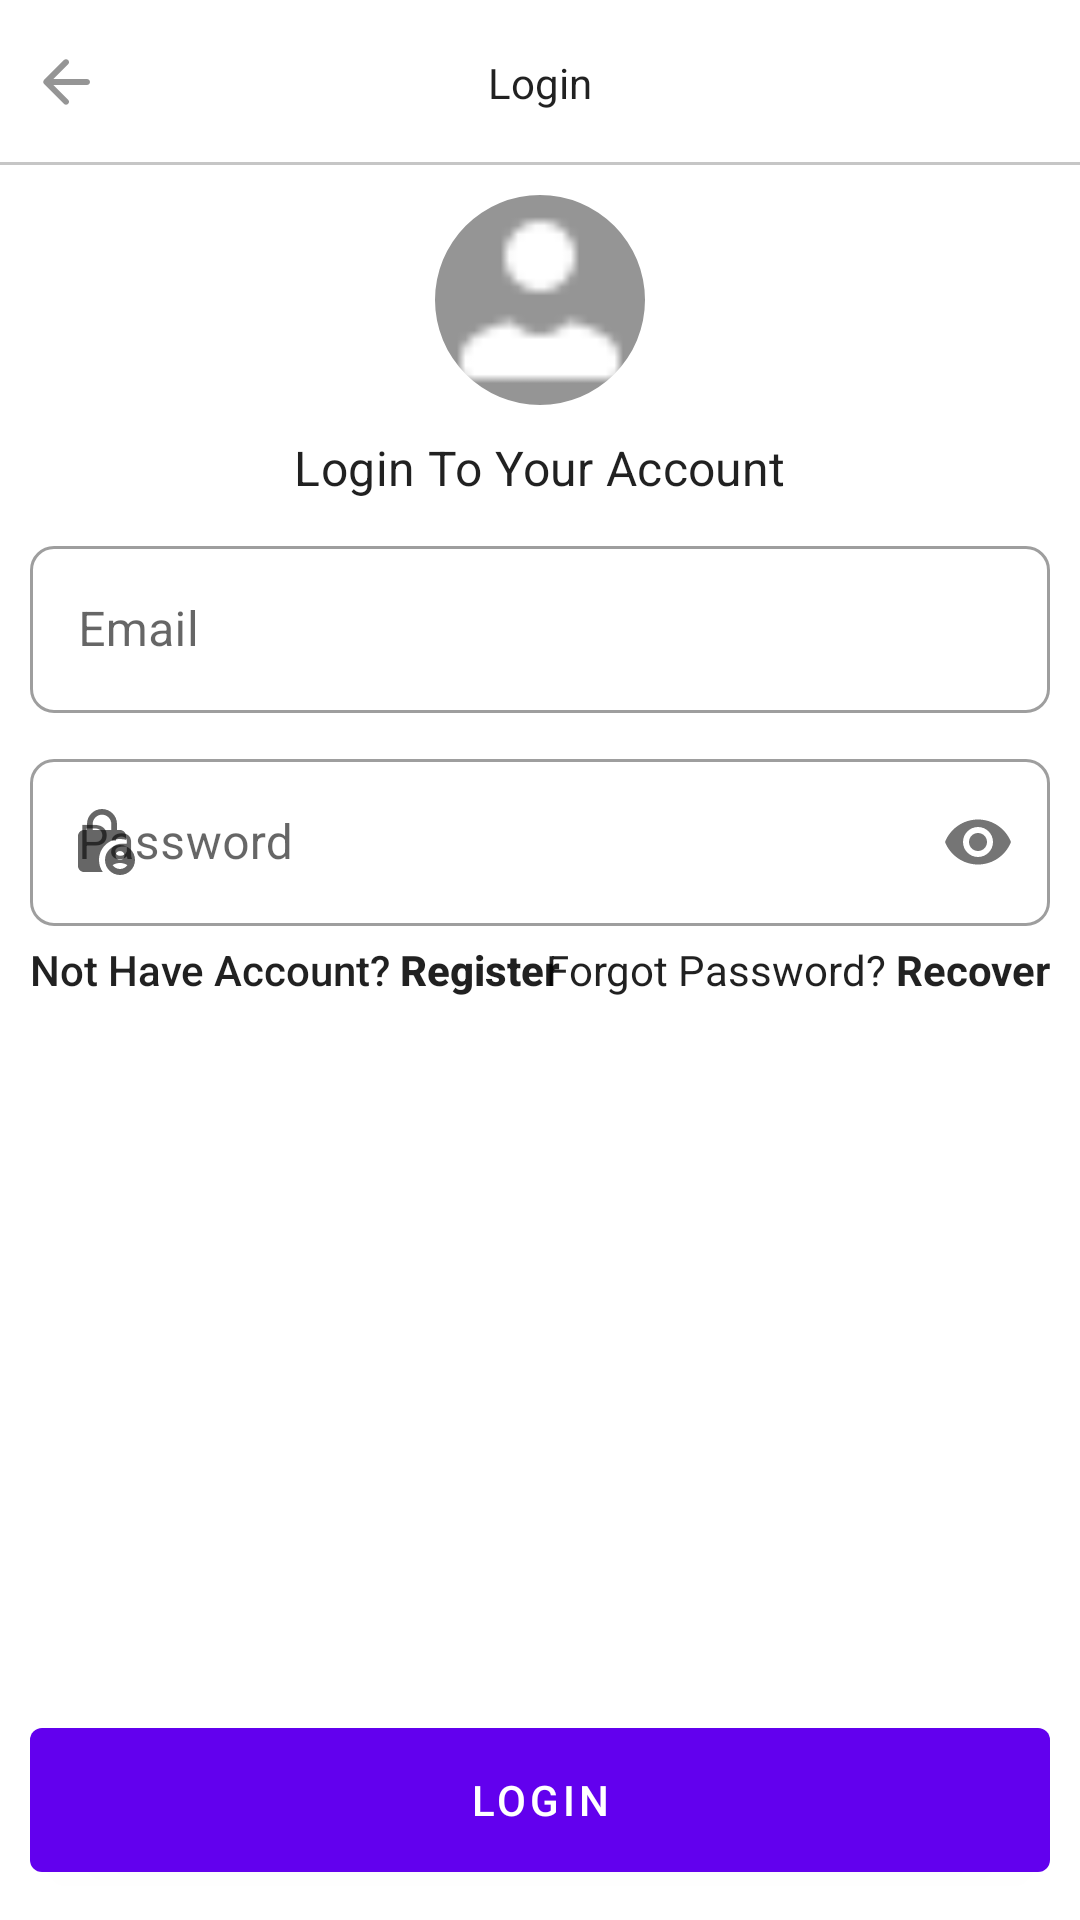

Point at icon controls on the screen. Image size 1080px×1920px, points as point (x, y).
back: point (66, 82)
person: point (540, 300)
